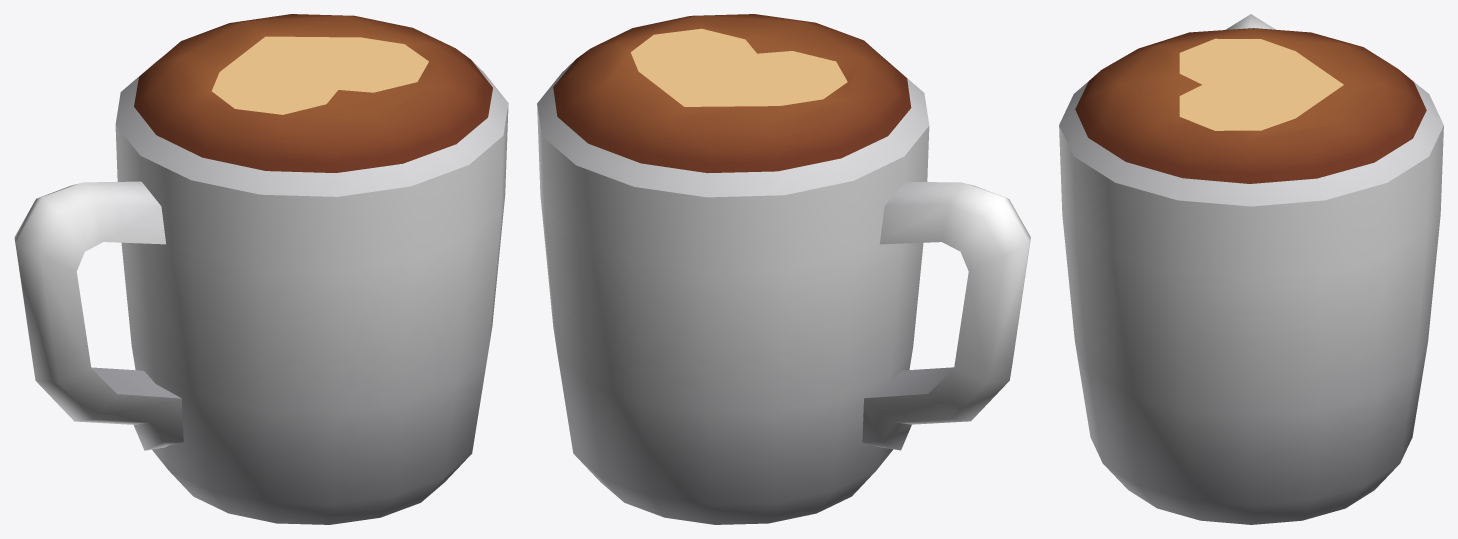
File: m_Mug01_Choco02.fbx
3 renders of one model, left to right at view 1: azimuth 30°, elevation 25°; view 2: azimuth 150°, elevation 25°; view 3: azimuth 270°, elevation 25°, orthographic. The views are drawn at different scales.
Parts seen in each view (by area): view 1: m_Mug01_Choco02; view 2: m_Mug01_Choco02; view 3: m_Mug01_Choco02.
Part boxes in pixels (bbox=[...]): m_Mug01_Choco02: bbox=[14, 14, 508, 524]; m_Mug01_Choco02: bbox=[537, 14, 1030, 524]; m_Mug01_Choco02: bbox=[1059, 14, 1443, 524].
Bounding box in the file's own units: 15.22 × 12.3 × 11.16.
